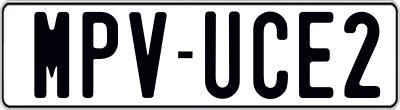2: (344, 10, 381, 97)
C: (251, 11, 290, 103)
E: (296, 9, 331, 96)
M: (33, 10, 69, 97)
P: (81, 9, 117, 97)
U: (203, 11, 241, 104)
V: (128, 9, 171, 95)
